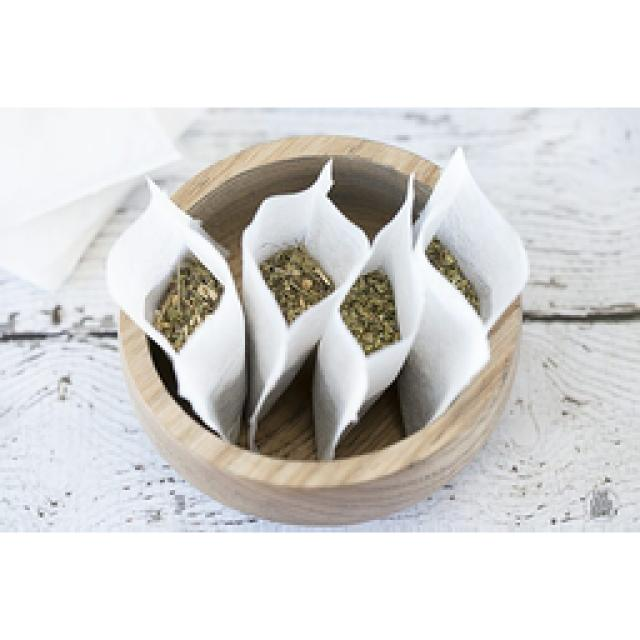tea-bags: (108, 150, 525, 458)
